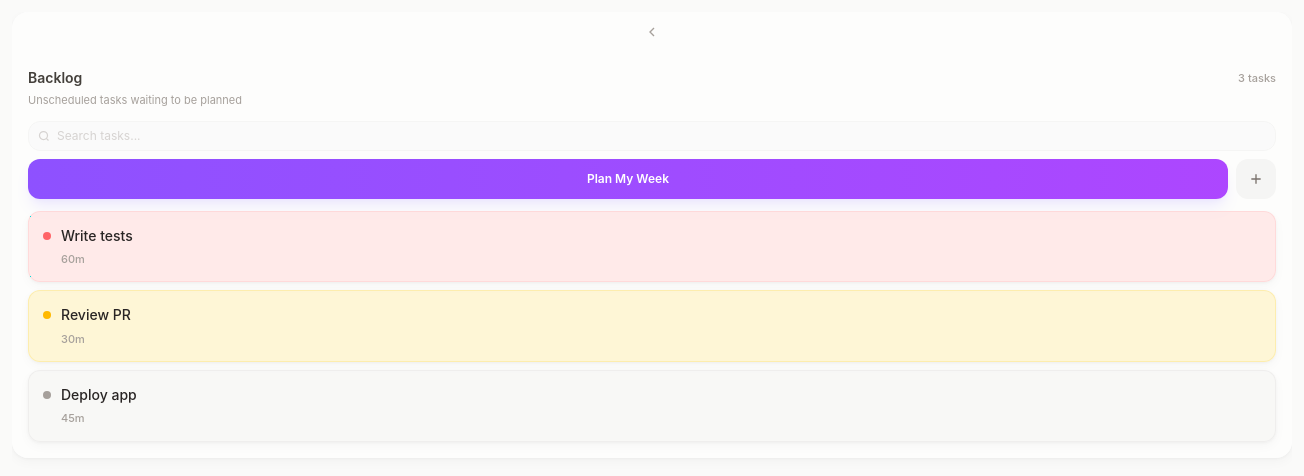
Test case: BacklogSidebar › shows no-match empty state when search has no results
In the field with placeholder "Search tasks...": (652, 136) [28,120,1276,150], type "xyz no match"
Wait 300 ms
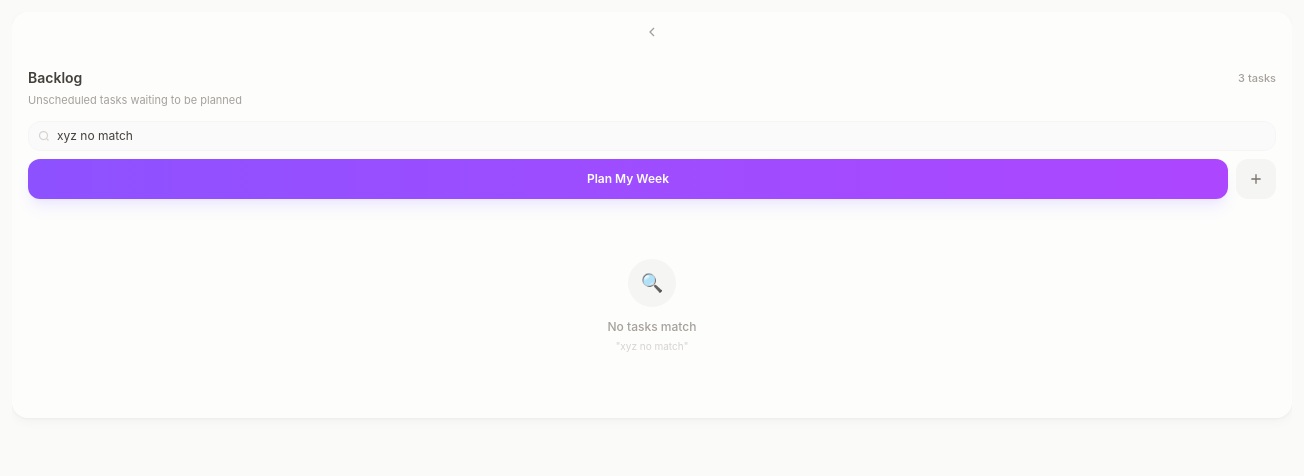
Result: the text "No tasks match" is shown at [608,318,696,334]
